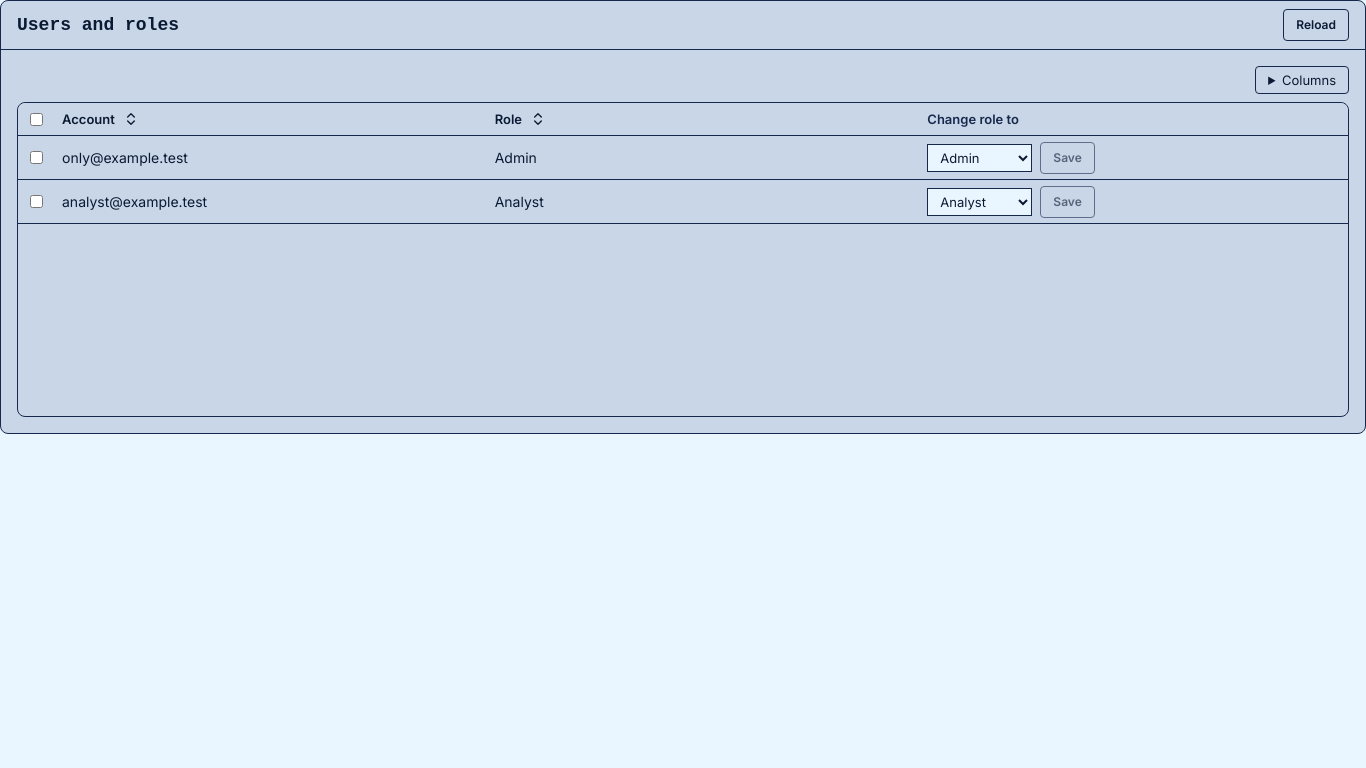
Test case: UsersPanel › reports a no-op as nothing having changed, not as a successful change
This screenshot has width=1366, height=768.
Select "Viewer" in the dropdown named "New role for only@example.test" in the row of "only@example.test" at (980, 158), box x1=927 y1=144 x2=1032 y2=172
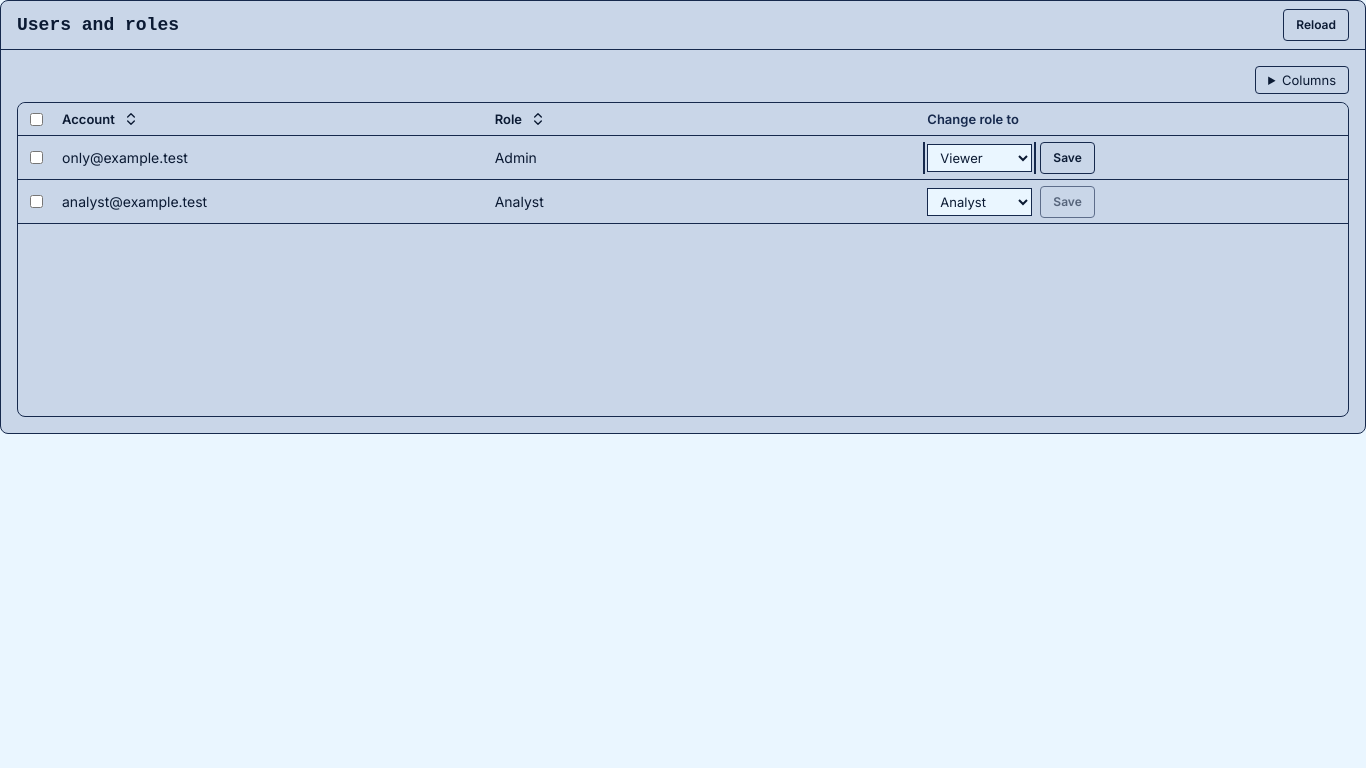
Click the button with aria-label "Save the new role for only@example.test" at (1068, 158), box x1=1040 y1=142 x2=1095 y2=174
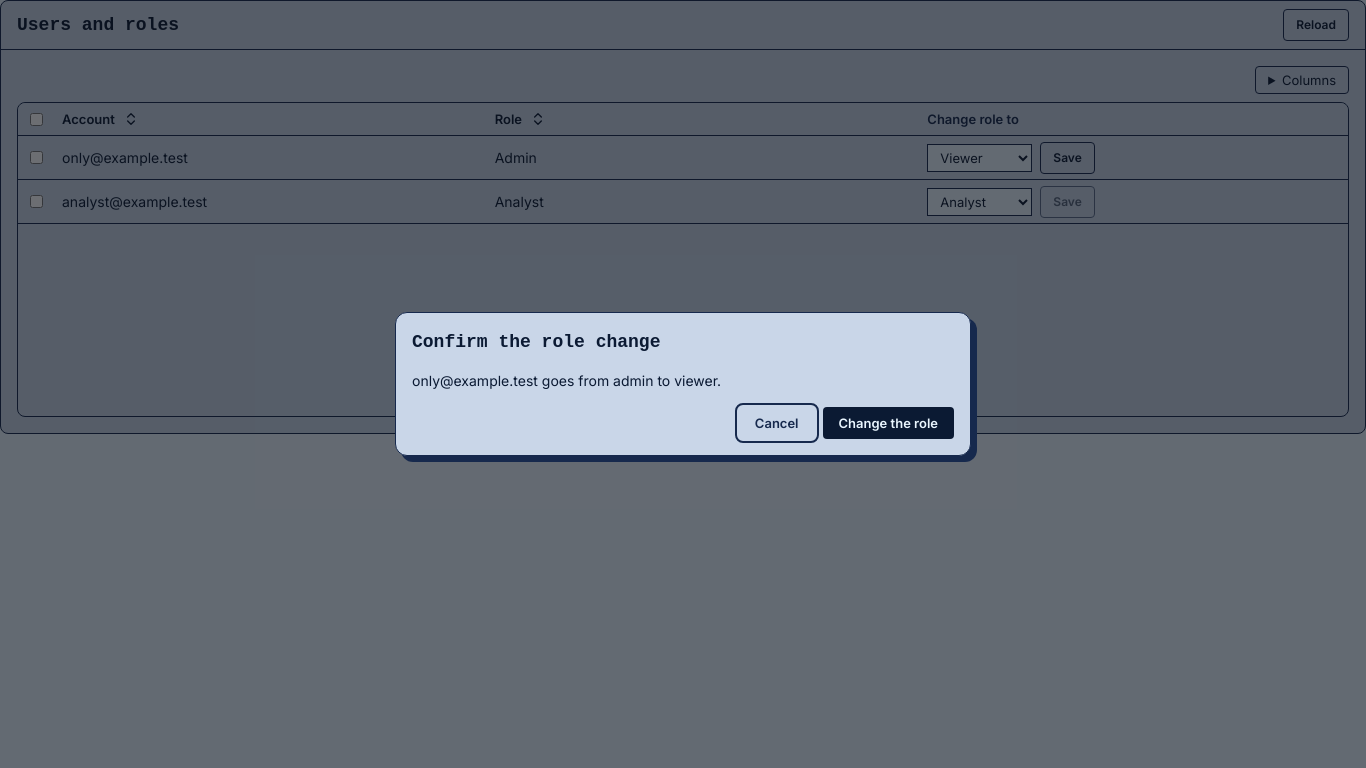
Click the button "Change the role" at (888, 423), box x1=822 y1=407 x2=954 y2=439
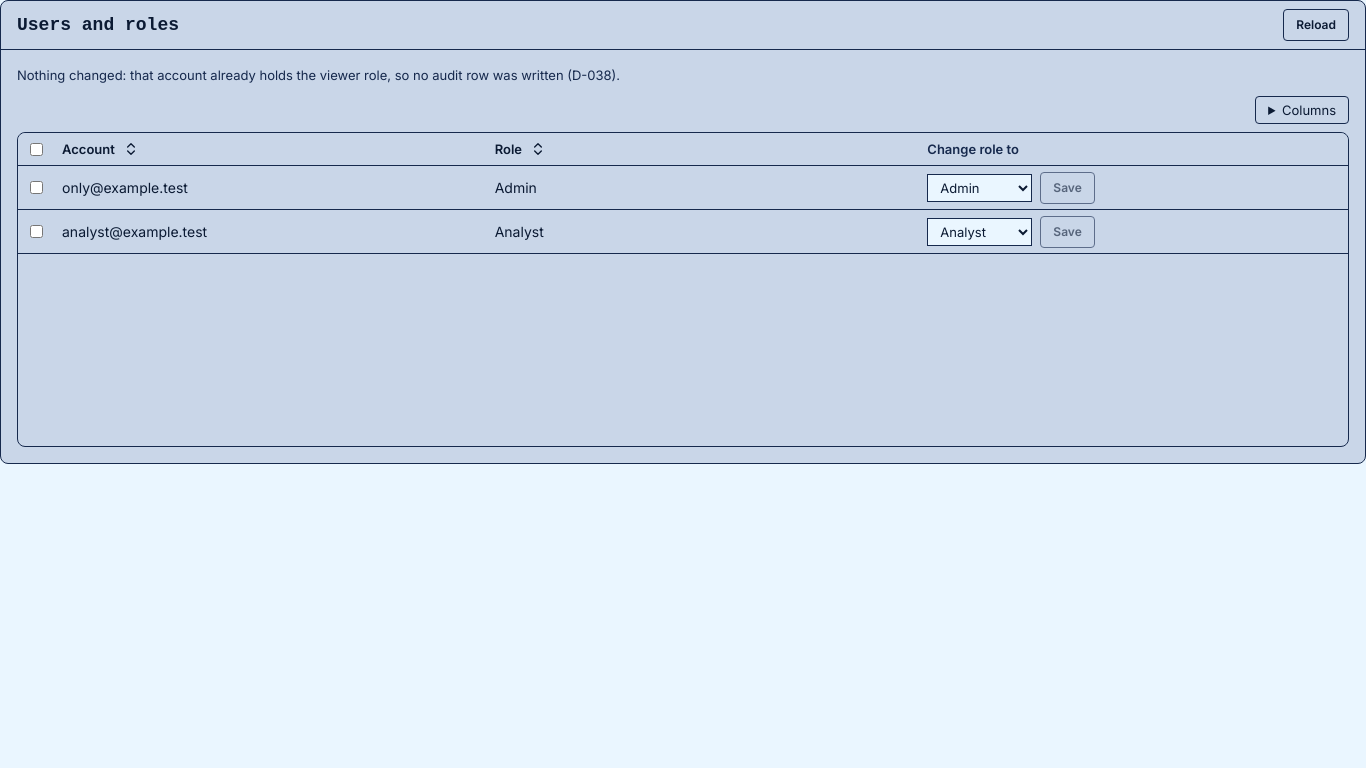
Check: the text "Nothing changed" is shown, box x1=17 y1=67 x2=620 y2=83
